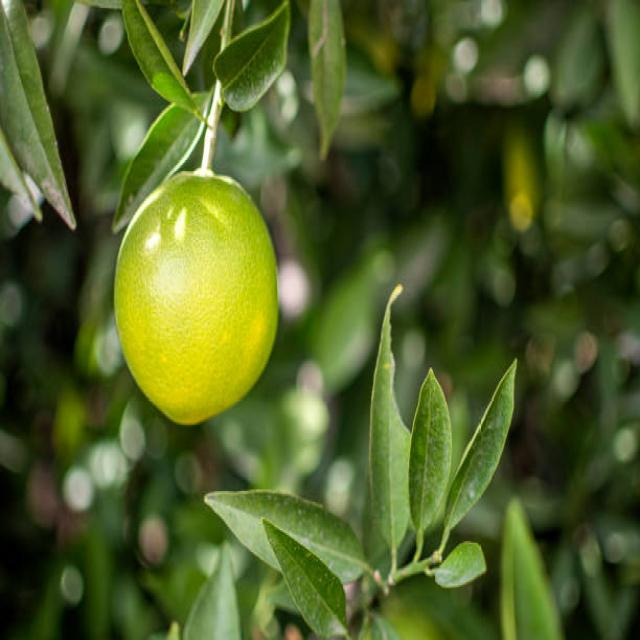Unripe: (113, 166, 278, 425)
